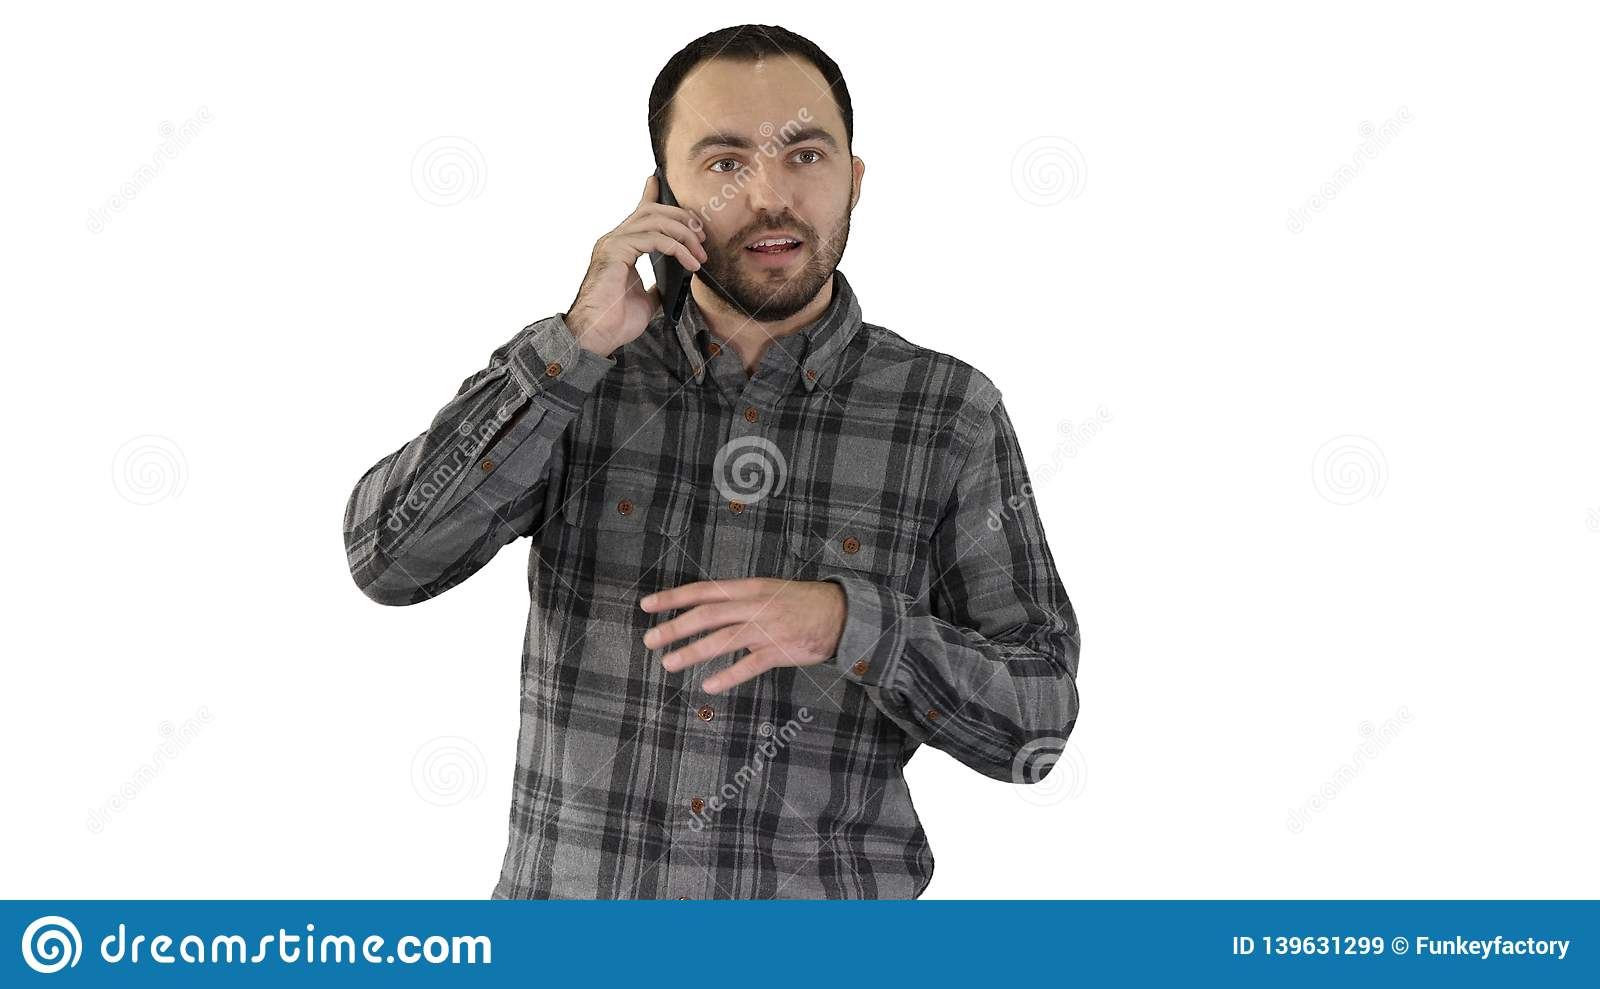phone: (641, 163, 698, 334)
talk: (570, 118, 850, 353)
